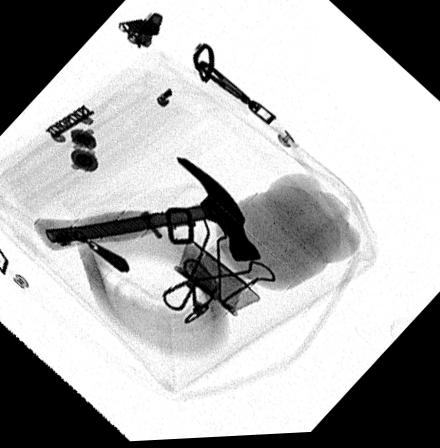Hammer: (32, 157, 261, 265)
